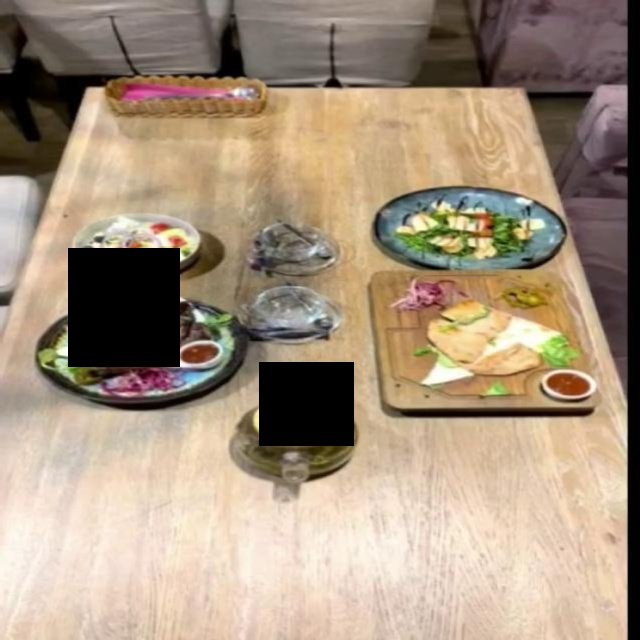meat: (362, 268, 605, 415), (34, 294, 250, 404)
salad: (375, 185, 568, 267), (70, 211, 201, 276)
tea: (230, 394, 359, 482)
